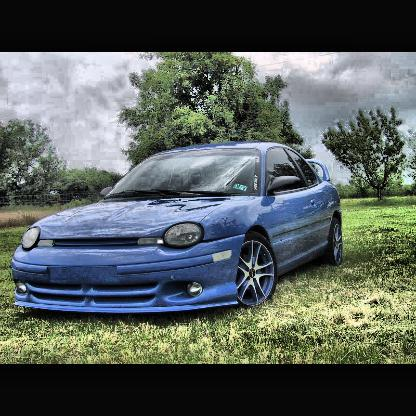Plymouth Neon Coupe 1999: (12, 142, 347, 322)
